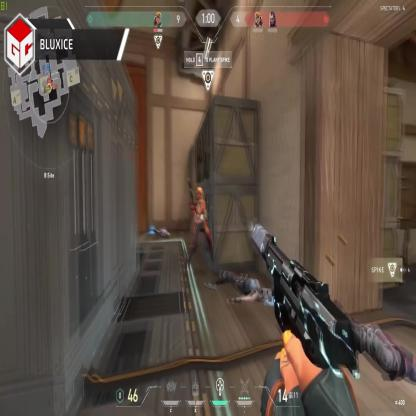enemy: (188, 186, 216, 276)
enemy_head: (197, 187, 204, 200)
